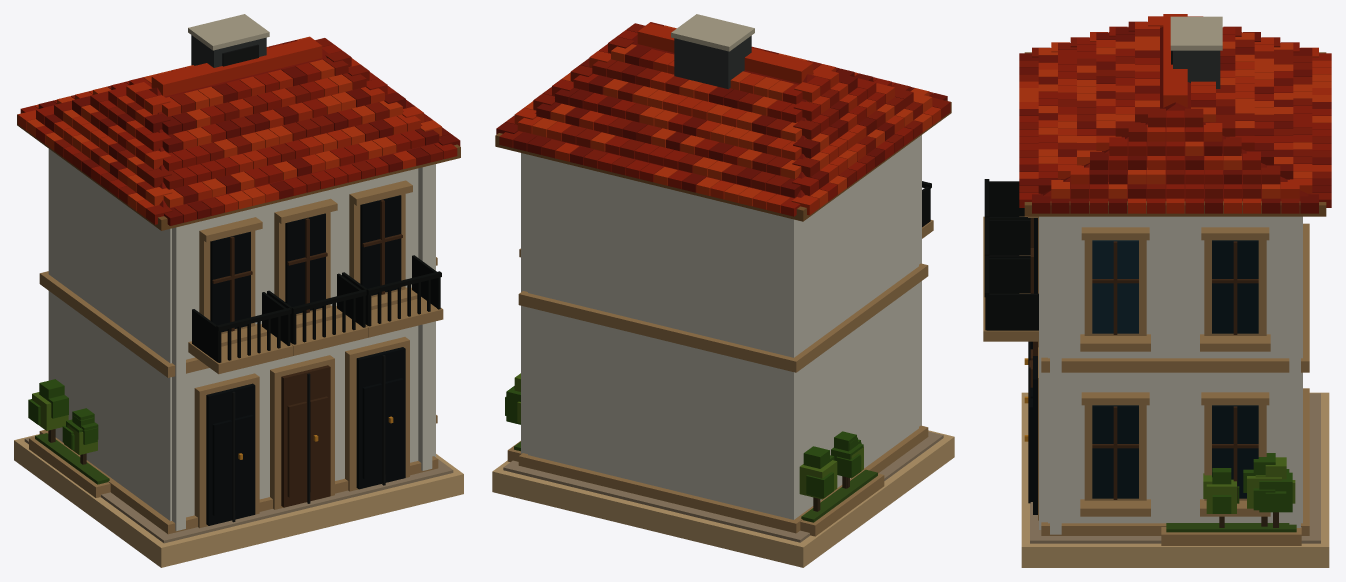
Rendered from SM_Mapa_005.fbx.
3 renders of one model, left to right at view 1: azimuth 30°, elevation 25°; view 2: azimuth 150°, elevation 25°; view 3: azimuth 270°, elevation 25°, orthographic. The views are drawn at different scales.
Parts seen in each view (by area): view 1: SM_Mapa_005; view 2: SM_Mapa_005; view 3: SM_Mapa_005.
Part boxes in pixels (<box>): SM_Mapa_005: <box>14,14,463,567</box>; SM_Mapa_005: <box>492,14,954,567</box>; SM_Mapa_005: <box>983,14,1331,567</box>.
Bounding box in the file's own units: 8 × 7.36 × 10.71.
